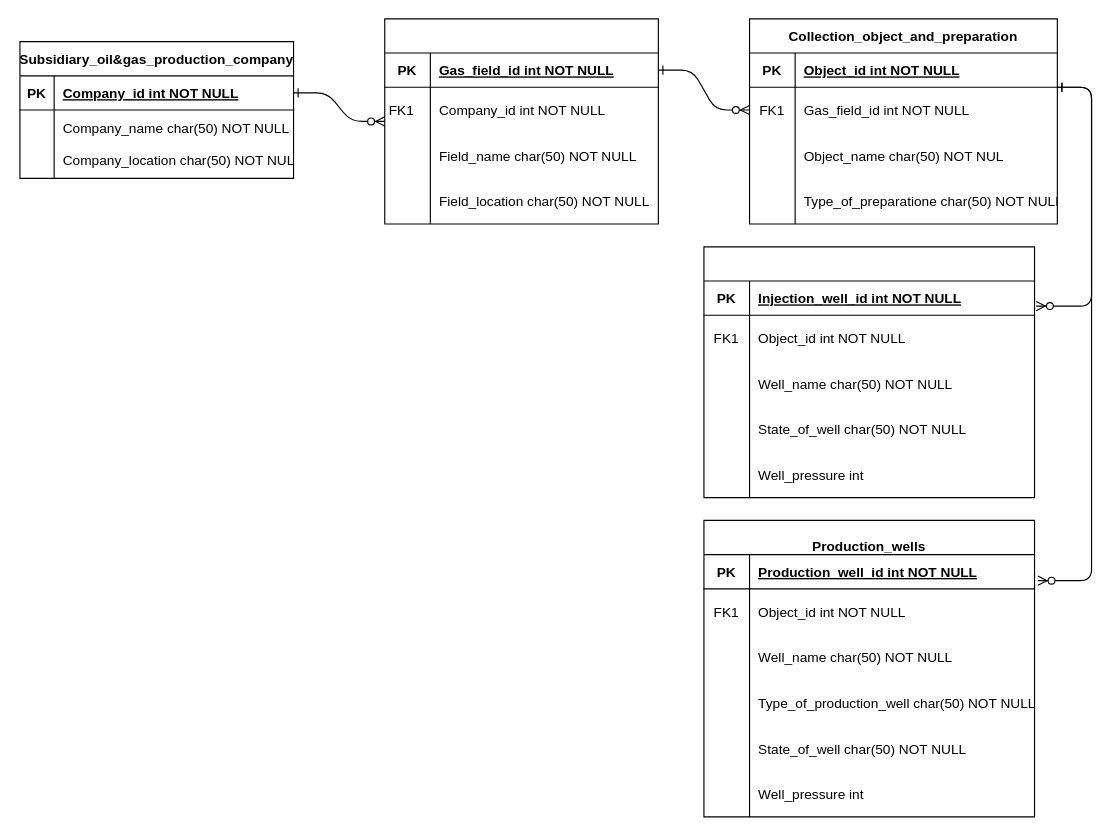
Some shapes in this 1110 by 836 pixel diagram are drawn without their labels. Each missing label, with the box of its shape:
Injection_wells: (703, 246, 1035, 498)
Oil&Gas_Field: (384, 18, 658, 224)
